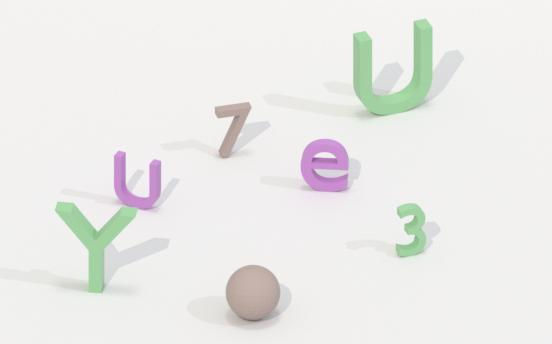chu_khoi: (353, 19, 432, 115), (55, 202, 137, 292), (114, 151, 160, 209), (301, 139, 348, 191)
hinh_cau: (226, 265, 279, 320)
so_khoi: (215, 102, 250, 157), (395, 203, 426, 256)
